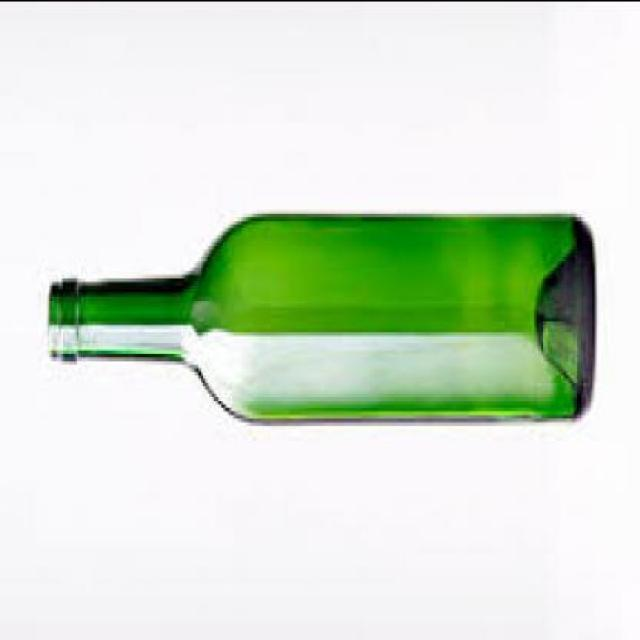GLASS: (48, 220, 592, 428)
